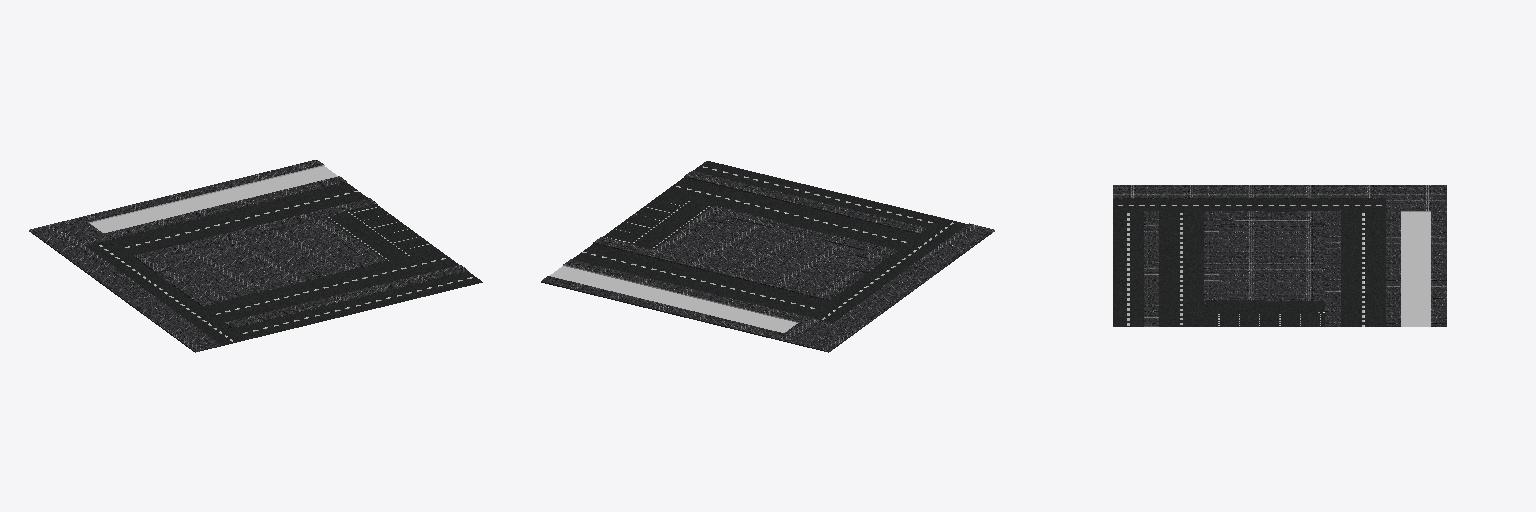
The picture shows the model from 3 angles: view 1: azimuth 30°, elevation 25°; view 2: azimuth 150°, elevation 25°; view 3: azimuth 270°, elevation 25°; orthographic projection.
Visible parts, largest first — view 1: Piso; view 2: Piso; view 3: Piso.
Boxes of the visible parts, x1=… form: Piso: x1=29, y1=160, x2=482, y2=352; Piso: x1=541, y1=161, x2=994, y2=352; Piso: x1=1113, y1=185, x2=1446, y2=326.
Size of the model in its own units: 70 by 0.2837 by 70.
3 materials, 2 textured.